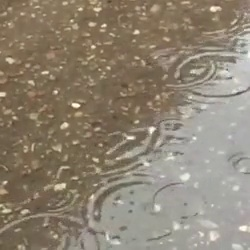drop: (83, 171, 174, 239), (178, 50, 250, 105), (1, 213, 99, 250), (148, 46, 216, 91), (153, 183, 205, 220), (158, 119, 192, 146), (43, 189, 74, 213), (228, 152, 250, 175)
